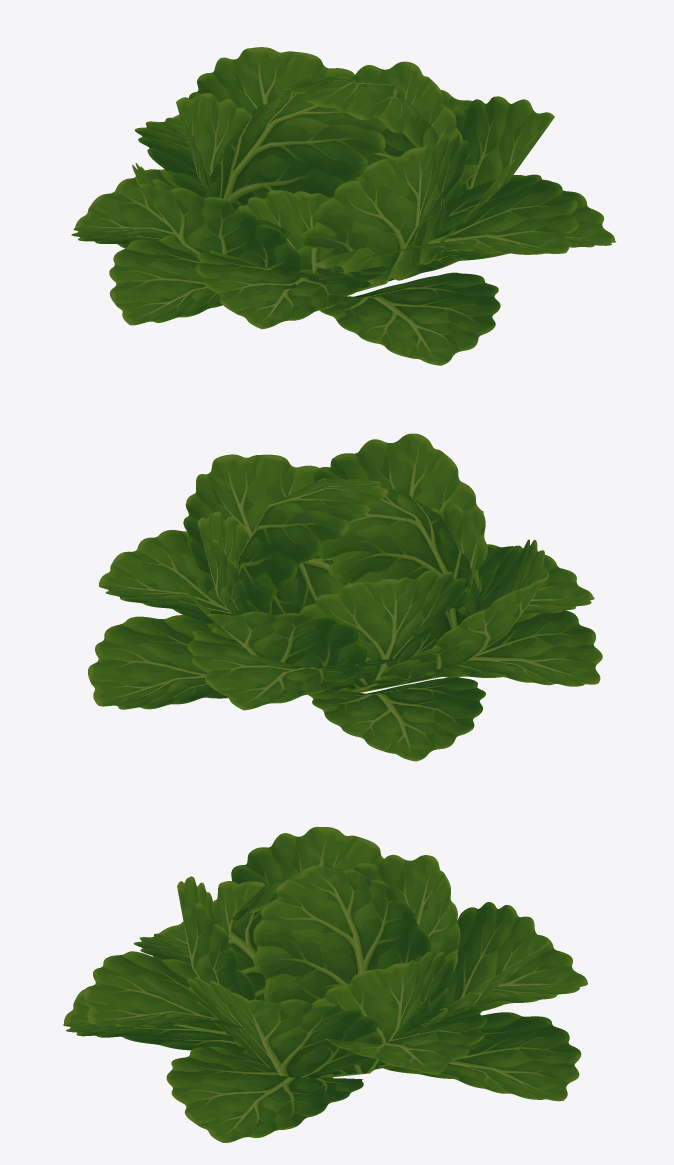
The model's file is CabbagePlant03.fbx.
The picture shows the model from 3 angles, top to bottom: view 1: azimuth 30°, elevation 25°; view 2: azimuth 150°, elevation 25°; view 3: azimuth 270°, elevation 25°; orthographic projection. The views are drawn at different scales.
Visible parts, largest first — view 1: CabbagePlant03_LOD0; view 2: CabbagePlant03_LOD0; view 3: CabbagePlant03_LOD0.
Boxes of the visible parts, x1,y1,x2,y2 form: CabbagePlant03_LOD0: [71, 47, 615, 365]; CabbagePlant03_LOD0: [88, 433, 602, 761]; CabbagePlant03_LOD0: [63, 826, 587, 1142].
Size of what is drawn, in the model's own units: 0.7461 by 0.3097 by 0.7716.
